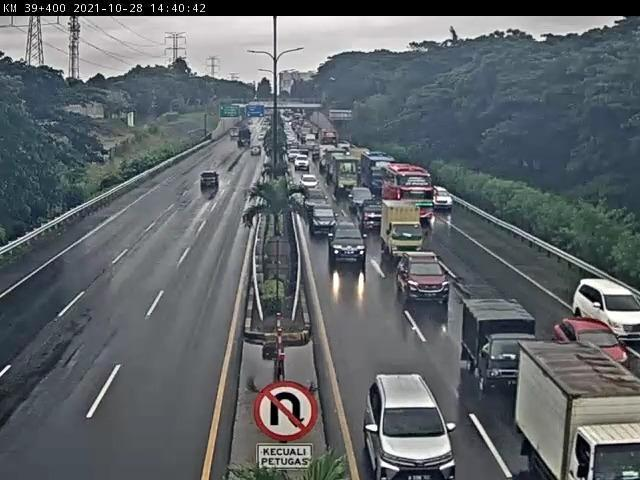bus: (383, 165, 431, 222)
car: (368, 372, 456, 480), (576, 279, 640, 342), (556, 316, 627, 364), (398, 253, 453, 306), (328, 218, 366, 265), (311, 206, 336, 236), (362, 204, 386, 232), (348, 186, 374, 208), (433, 185, 455, 211), (196, 173, 220, 194), (305, 190, 329, 209)
truck: (515, 343, 640, 480), (462, 299, 540, 393), (382, 201, 425, 258)
